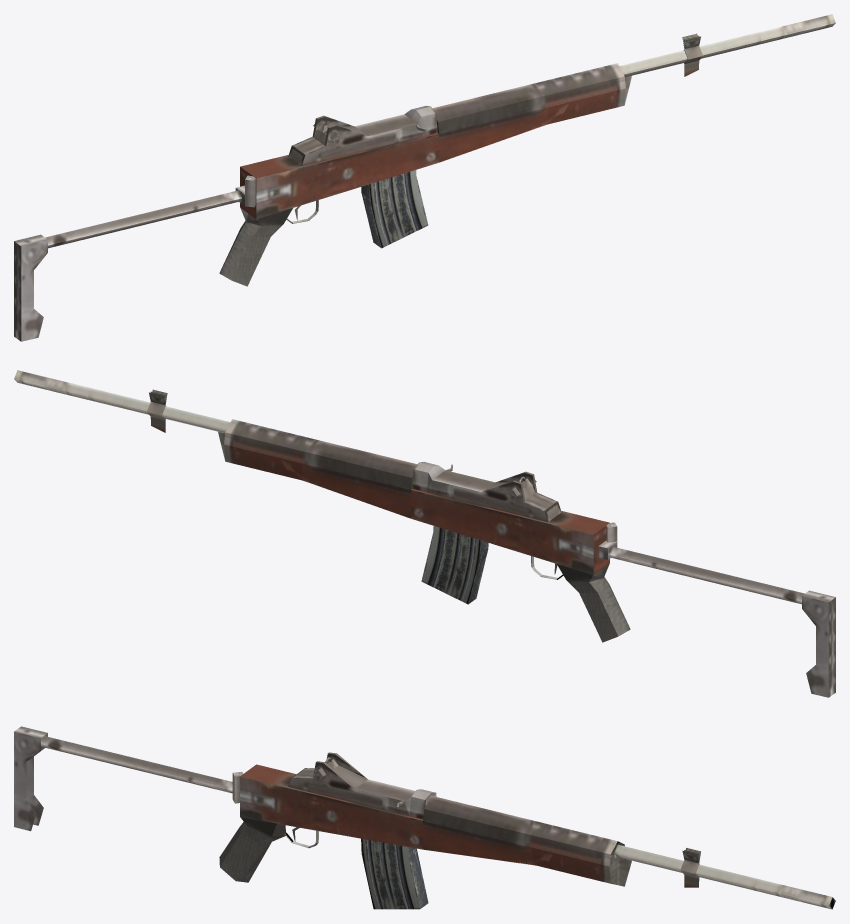
The model's file is fucile.glb.
3 views of the same model, one above another, from view 1: azimuth 30°, elevation 25°; view 2: azimuth 150°, elevation 25°; view 3: azimuth 330°, elevation 25° (orthographic).
Visible parts, largest first — view 1: Tac_M14_Body, Tac_M14_Magazene, Tac_M14_Slide; view 2: Tac_M14_Body, Tac_M14_Magazene, Tac_M14_Slide; view 3: Tac_M14_Body, Tac_M14_Magazene, Tac_M14_Slide.
Boxes of the visible parts, x1,y1,x2,y2 form: Tac_M14_Body: [14, 14, 835, 341]; Tac_M14_Magazene: [361, 170, 428, 248]; Tac_M14_Slide: [355, 114, 426, 135]; Tac_M14_Body: [14, 370, 835, 697]; Tac_M14_Magazene: [421, 526, 488, 604]; Tac_M14_Slide: [432, 464, 494, 491]; Tac_M14_Body: [14, 726, 835, 909]; Tac_M14_Magazene: [361, 838, 428, 909]; Tac_M14_Slide: [355, 779, 414, 809].
Size of the model in its own units: 11.47 by 1.95 by 0.5828.
5 materials, 5 textured.
